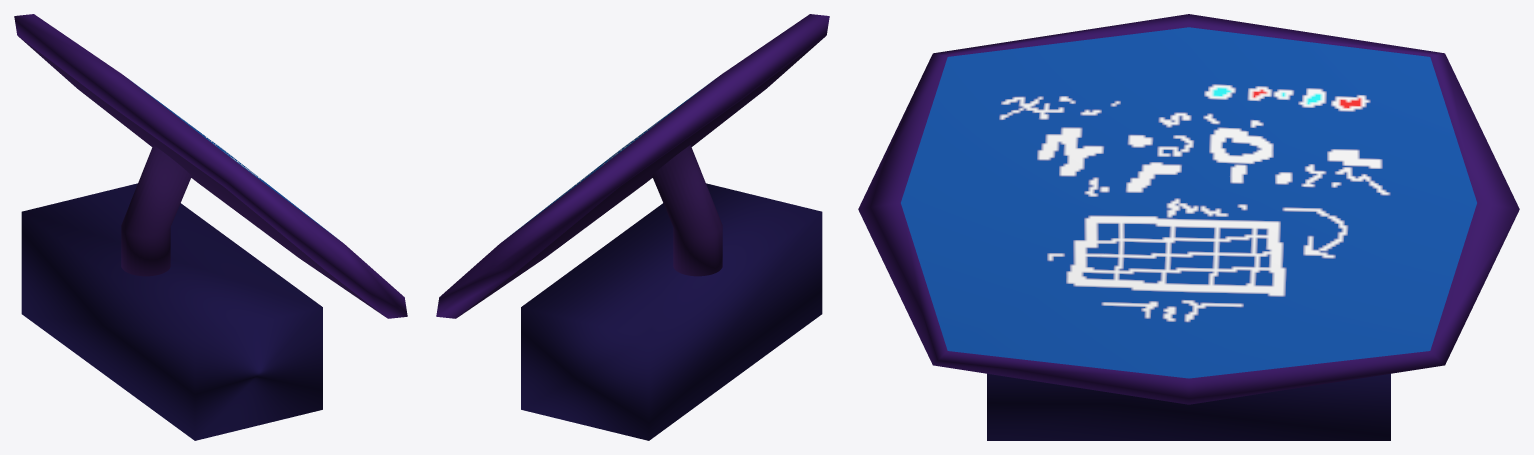
File: screen.fbx
3 renders of one model, left to right at view 1: azimuth 30°, elevation 25°; view 2: azimuth 150°, elevation 25°; view 3: azimuth 270°, elevation 25°, orthographic. The views are drawn at different scales.
Visible parts, largest first — view 1: Cube; view 2: Cube; view 3: Cube.
Boxes of the visible parts, box(x1,y1,x2,y2) form: Cube: box(14, 14, 407, 440); Cube: box(436, 14, 829, 440); Cube: box(858, 14, 1519, 440).
Size of the model in its own units: 3.44 by 4.54 by 7.76.
1 material, 1 textured.
